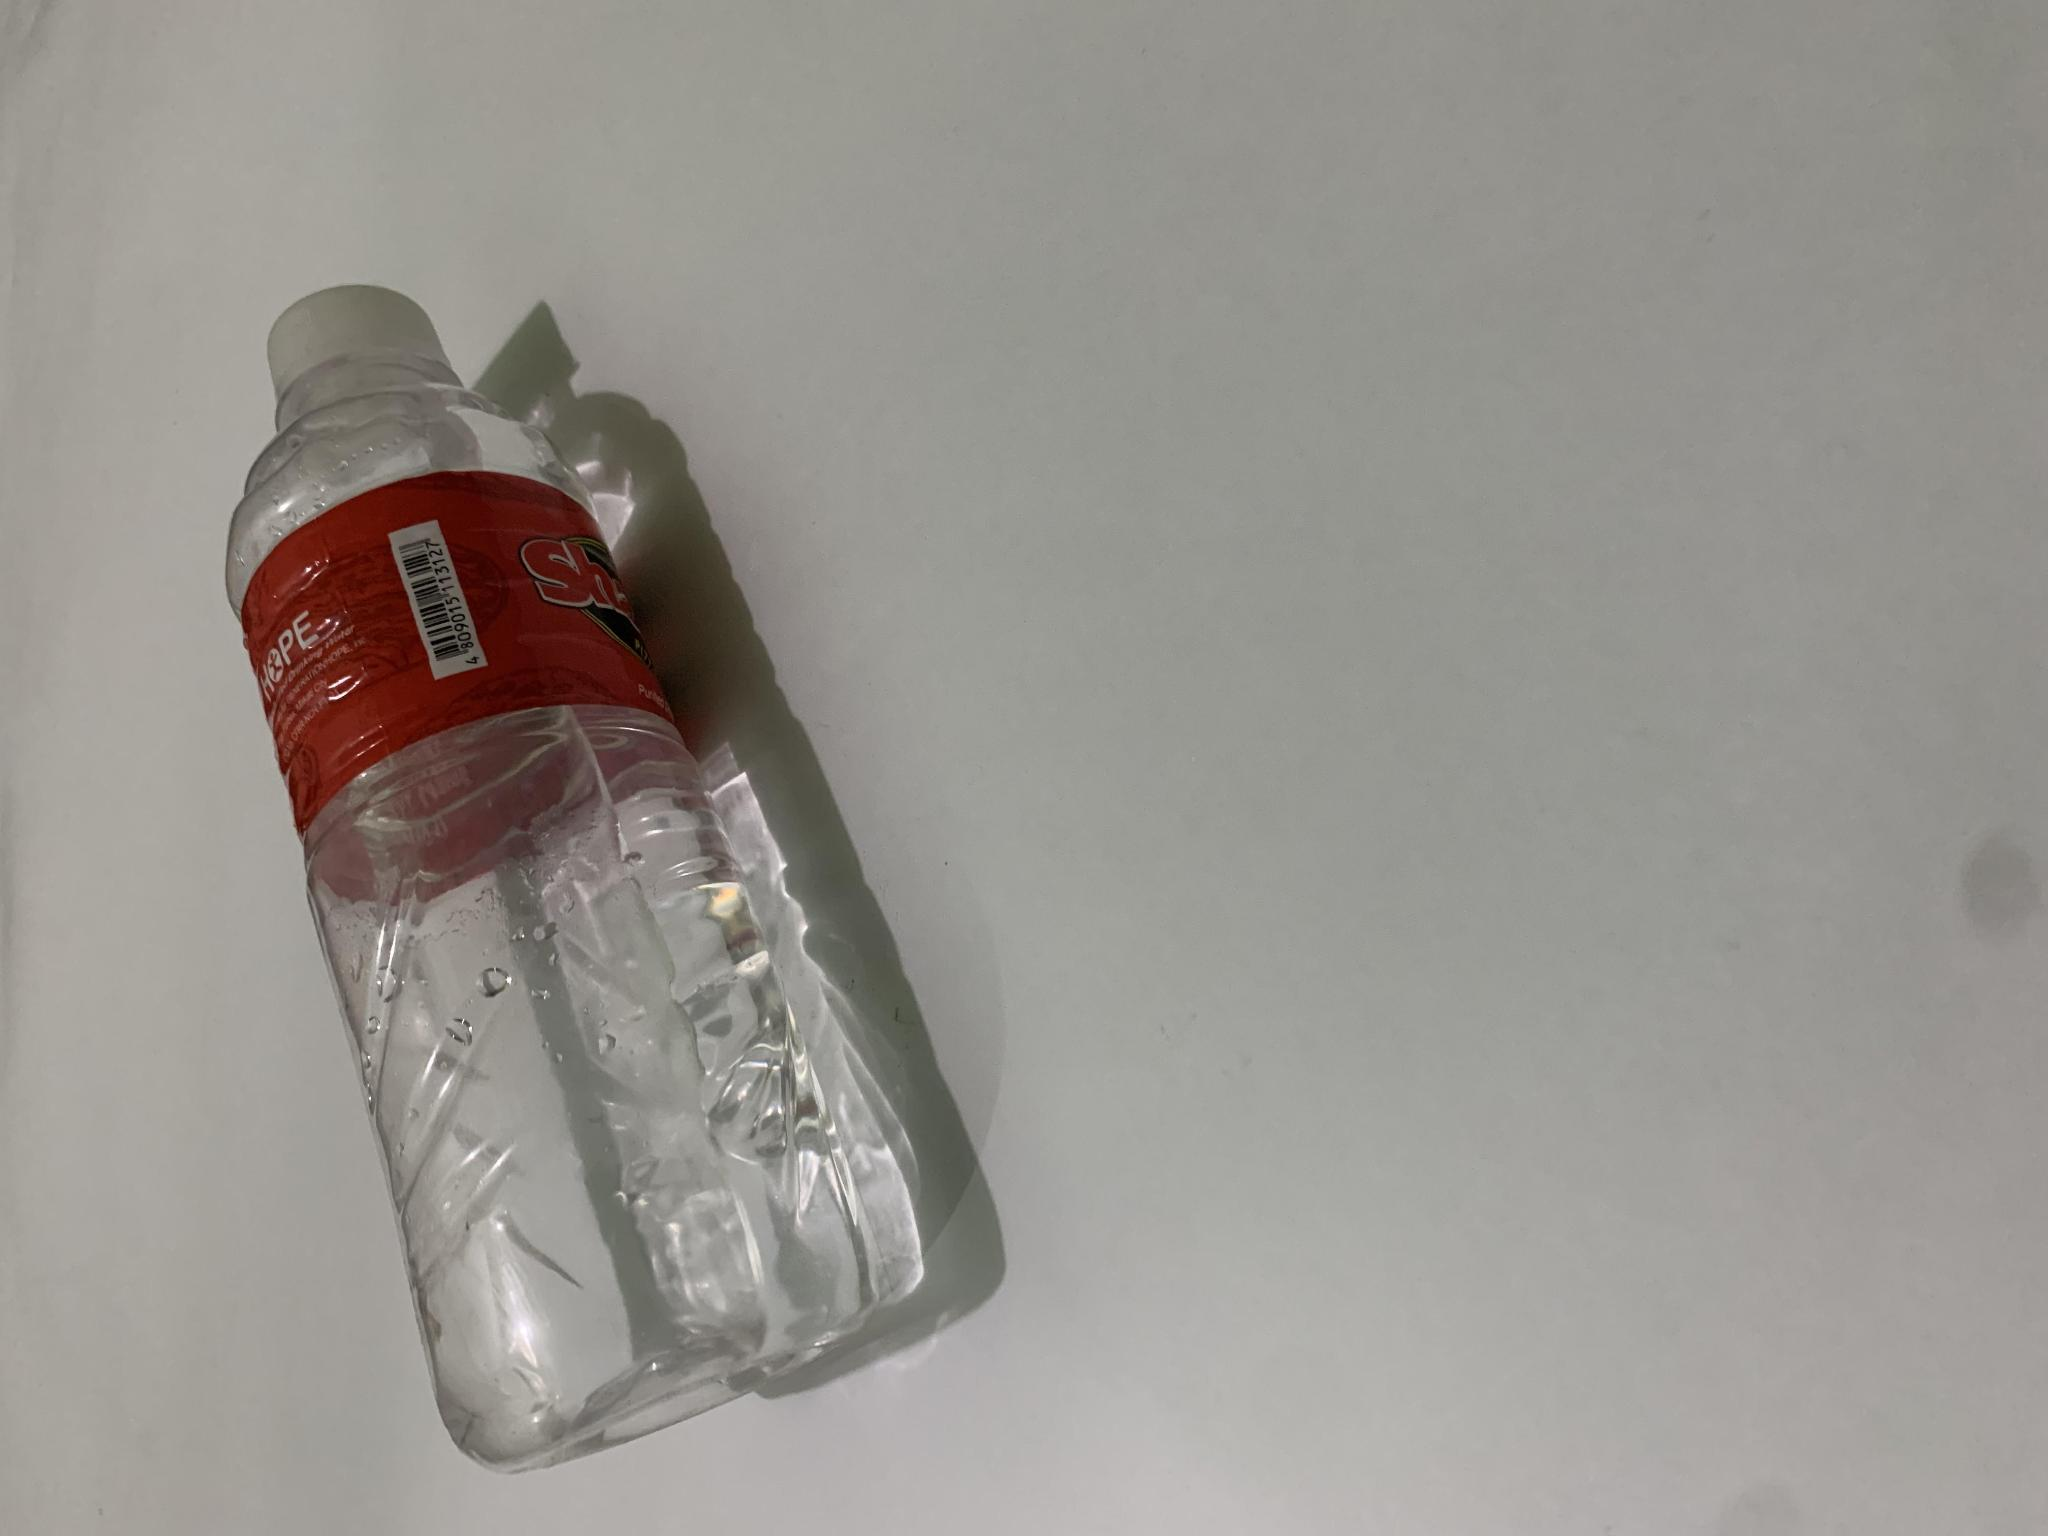bottle: (184, 148, 980, 1508)
